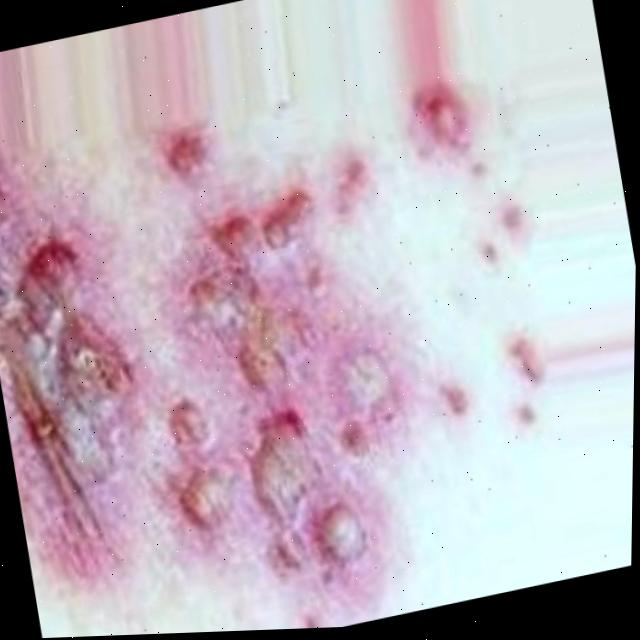Shingles: (0, 57, 590, 640)
